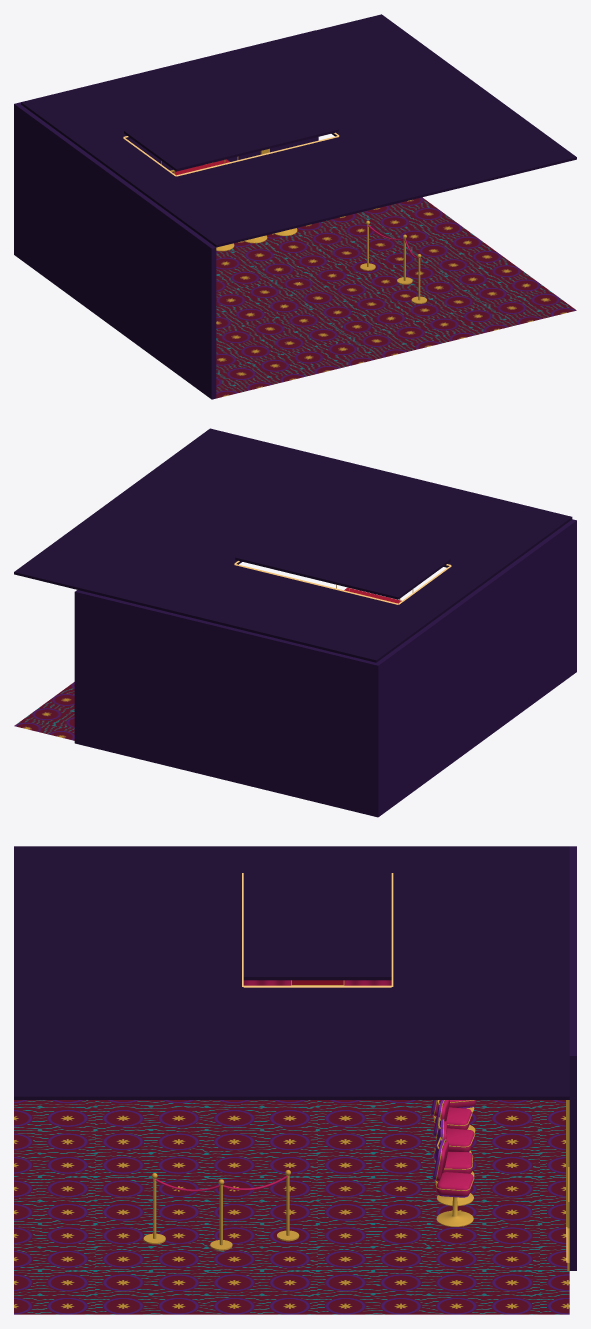
Rendered from room.glb.
3 views of the same model, one above another, from view 1: azimuth 30°, elevation 25°; view 2: azimuth 150°, elevation 25°; view 3: azimuth 270°, elevation 25° (orthographic). The views are drawn at different scales.
Visible parts, largest first — view 1: Environment__CMat_CeilingPlum, Environment__CMat_Carpet, Environment__CMat_WallPlum, Environment__CMat_Gold, Environment__CMat_CoveLED; view 2: Environment__CMat_WallPlum, Environment__CMat_CeilingPlum, Environment__CMat_Carpet, Environment__CMat_CoveLED; view 3: Environment__CMat_CeilingPlum, Environment__CMat_Carpet, Environment__CMat_WallPlum, Seating__CMat_SlotChairVelvet, Environment__CMat_Gold, Seating__CMat_Gold, Environment__CMat_CoveLED, Environment__CMat_Curtain, Seating__CMat_SlotChairShell.
Boxes of the visible parts, box(x1,y1,x2,y2) form: Environment__CMat_CeilingPlum: box(21, 14, 576, 247); Environment__CMat_Carpet: box(216, 197, 576, 398); Environment__CMat_WallPlum: box(14, 30, 318, 399); Environment__CMat_Gold: box(161, 148, 426, 303); Environment__CMat_CoveLED: box(123, 132, 339, 176); Environment__CMat_WallPlum: box(74, 519, 576, 817); Environment__CMat_CeilingPlum: box(14, 428, 572, 662); Environment__CMat_Carpet: box(14, 682, 74, 740); Environment__CMat_CoveLED: box(234, 561, 451, 604); Environment__CMat_CeilingPlum: box(14, 846, 569, 1099); Environment__CMat_Carpet: box(14, 1100, 569, 1314); Environment__CMat_WallPlum: box(569, 846, 576, 1270); Seating__CMat_SlotChairVelvet: box(434, 1100, 476, 1196); Environment__CMat_Gold: box(143, 980, 569, 1270); Seating__CMat_Gold: box(433, 1100, 475, 1226); Environment__CMat_CoveLED: box(242, 873, 393, 987); Environment__CMat_Curtain: box(155, 980, 391, 1191); Seating__CMat_SlotChairShell: box(430, 1100, 474, 1197).
Size of the model in its own units: 8.1 by 3.4 by 7.6.
Materials: 17 (1 with a texture image).
